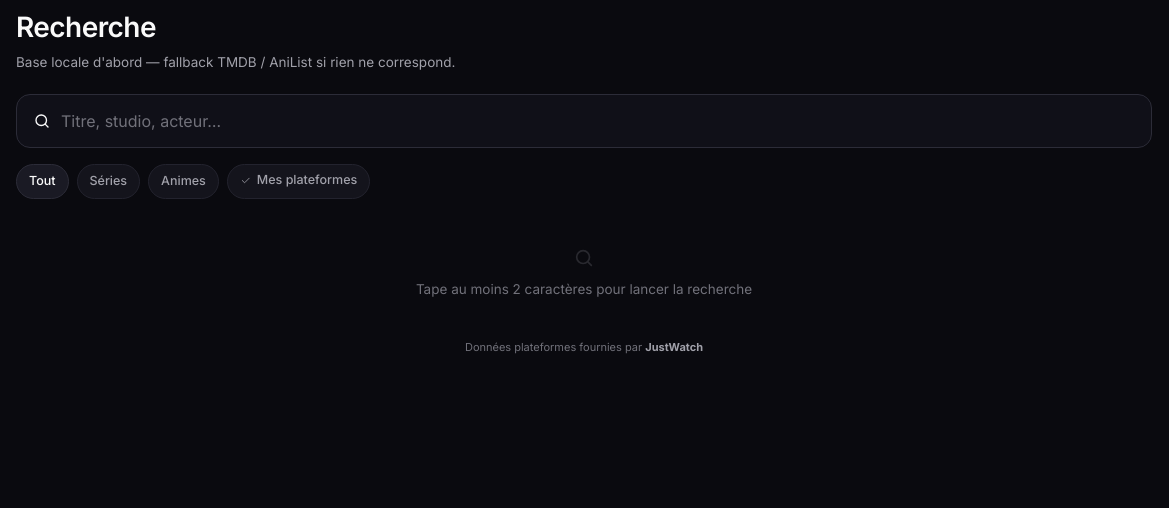
Test: Search & Settings Pages › SearchPage › drops the anime filters when switching back to series
The image size is (1169, 508).
Click the button "Animes" at (183, 182), box [148,164,219,199]
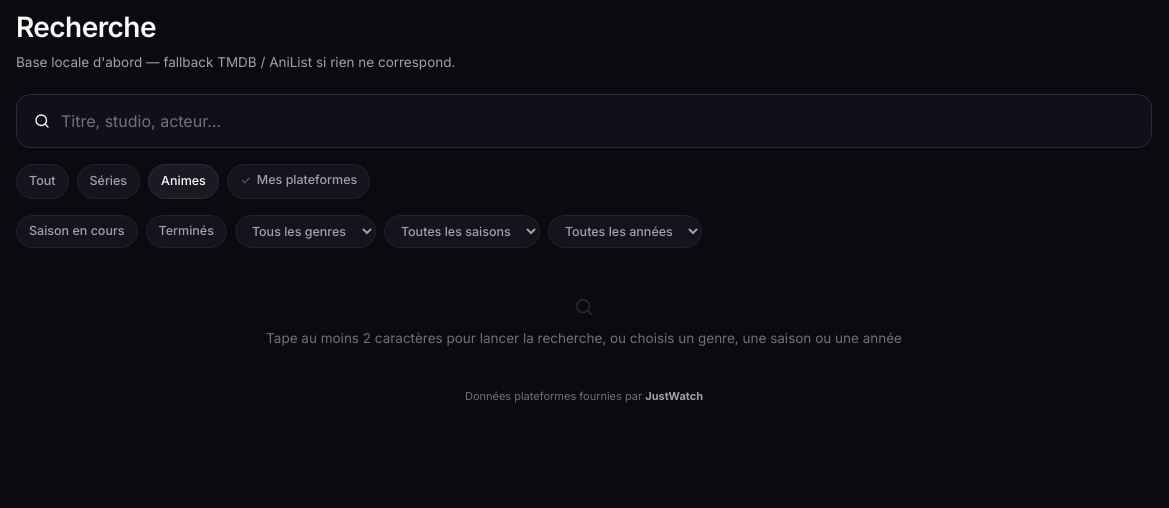
Select "Drama" in the dropdown named "Genre" at (305, 231), box [235,215,376,248]
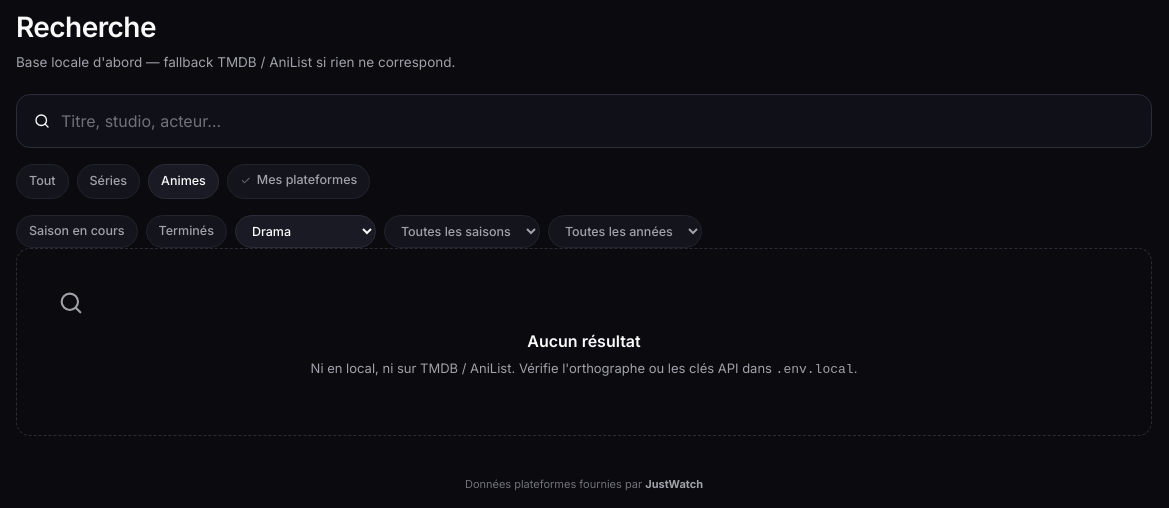
Click the button "Séries" at (108, 182), box [76,164,140,199]
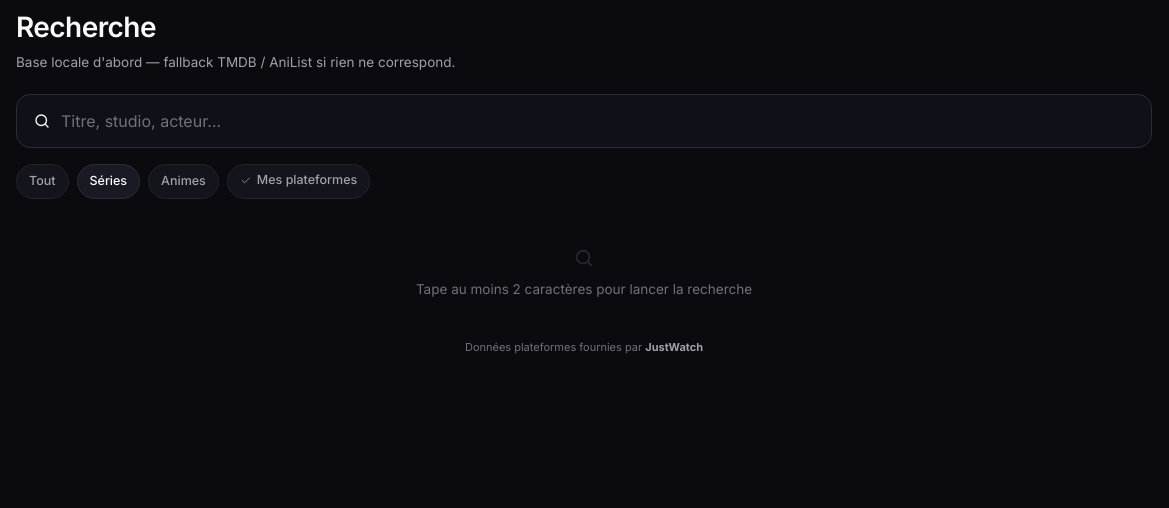
Check: the dropdown labelled "Genre" is gone
Check: the text "Tape au moins 2 caractères pour lancer la recherche" is shown, box [416,247,752,297]
